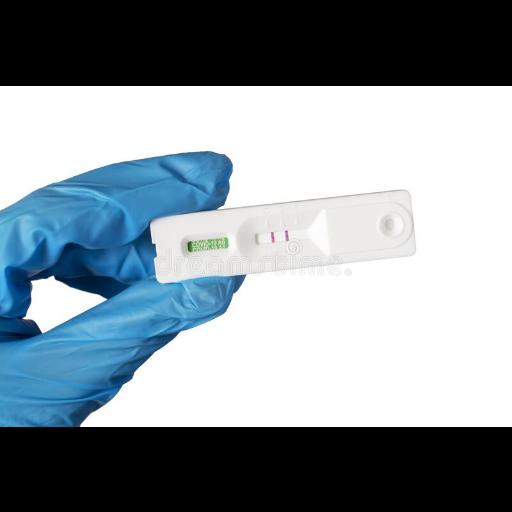Pos: (151, 188, 419, 283)
